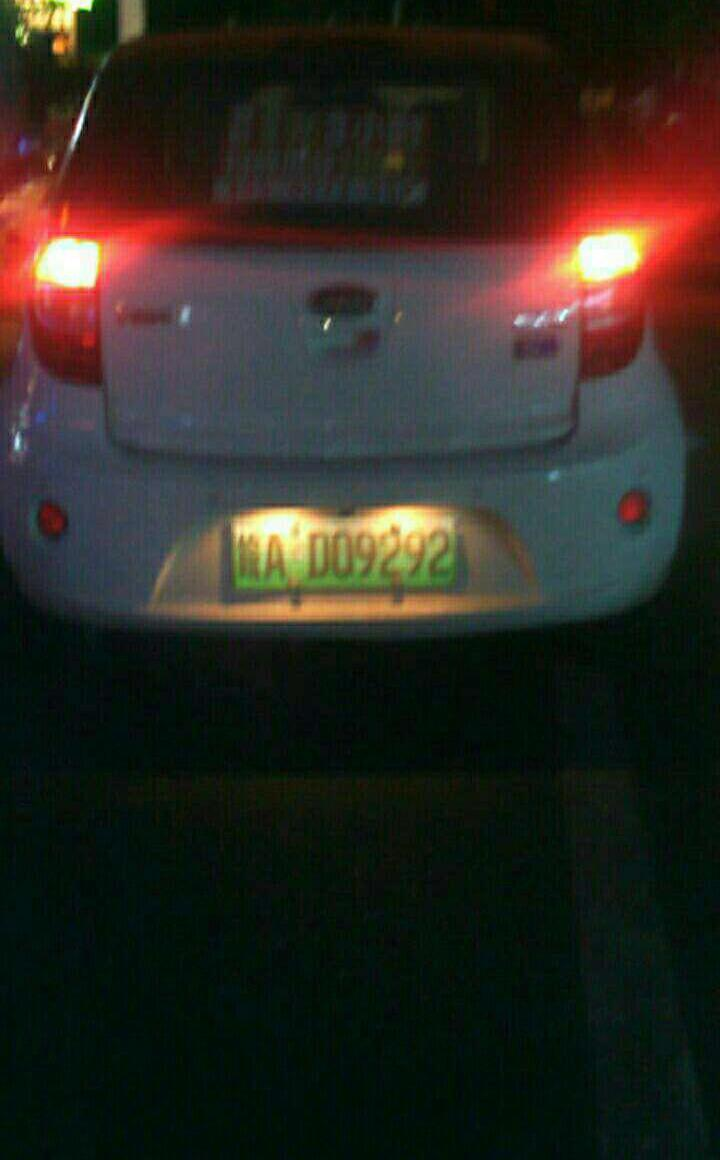car_id: (231, 518, 450, 595)
